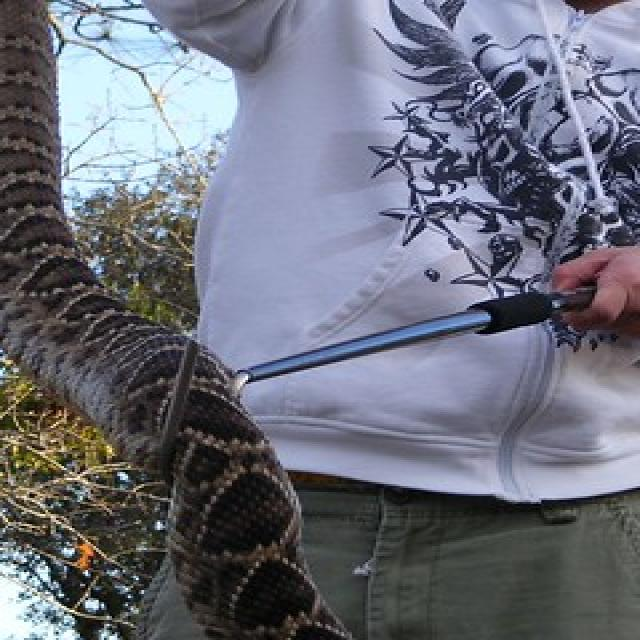Snake: (0, 0, 392, 640)
